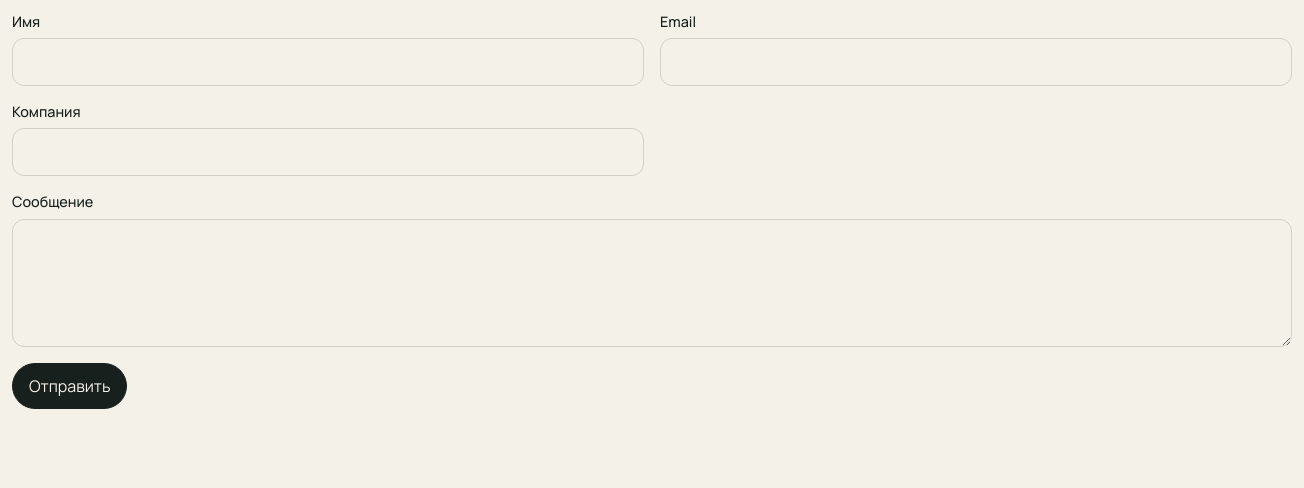
Test: Форма обращения › не отправляет пустую компанию как пустую строку
The width and height of the screenshot is (1304, 488).
Step 1. Type "Michael Ershov" into the field labelled "Имя" → (328, 62), box x1=12 y1=38 x2=644 y2=86
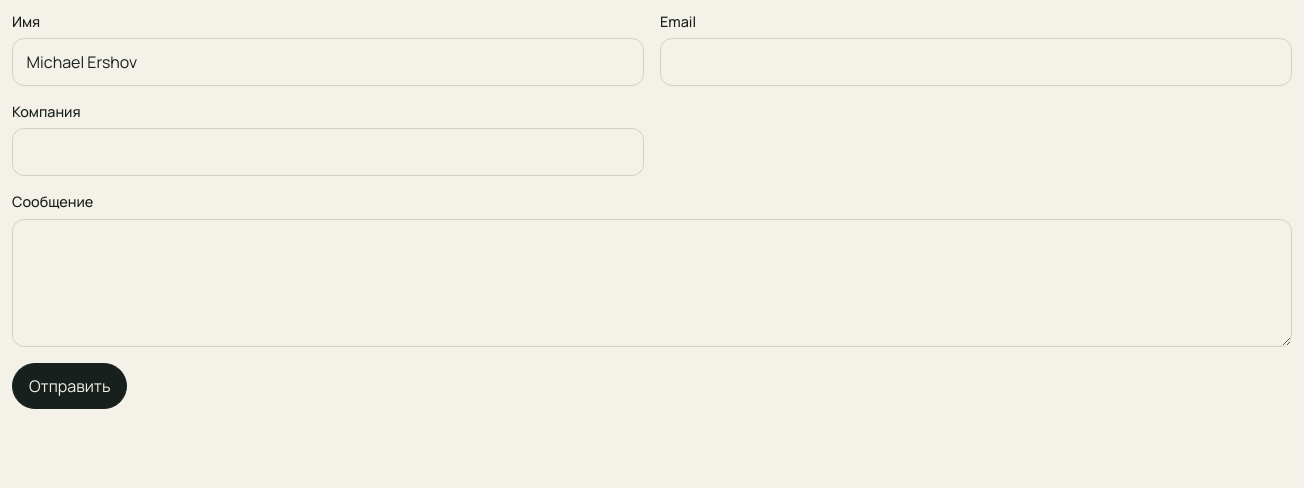
Step 2. Type "michael@example.com" into the field labelled "Email" → (976, 62), box x1=660 y1=38 x2=1292 y2=86
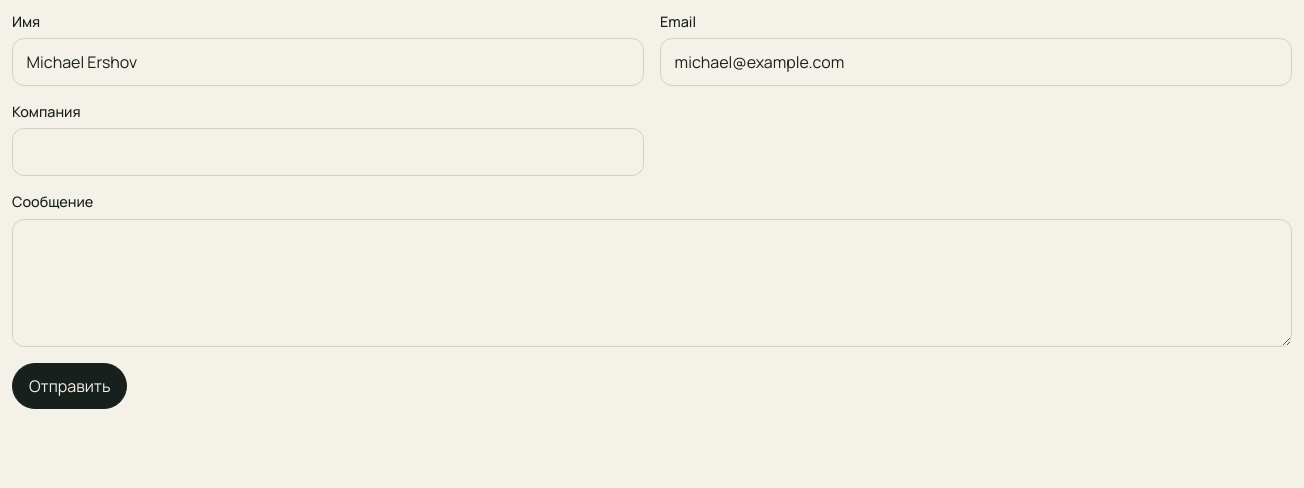
Step 3. Type "Предлагаю обсудить сотрудничество." into the text box labelled "Сообщение" → (652, 283), box x1=12 y1=219 x2=1292 y2=347
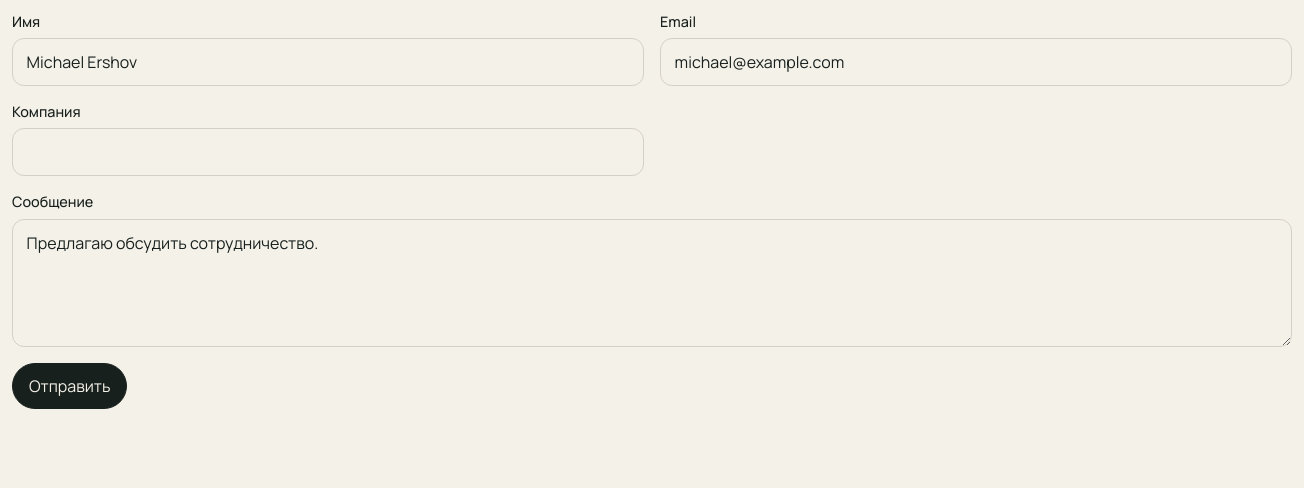
Step 4. Submit the form "Отправить"
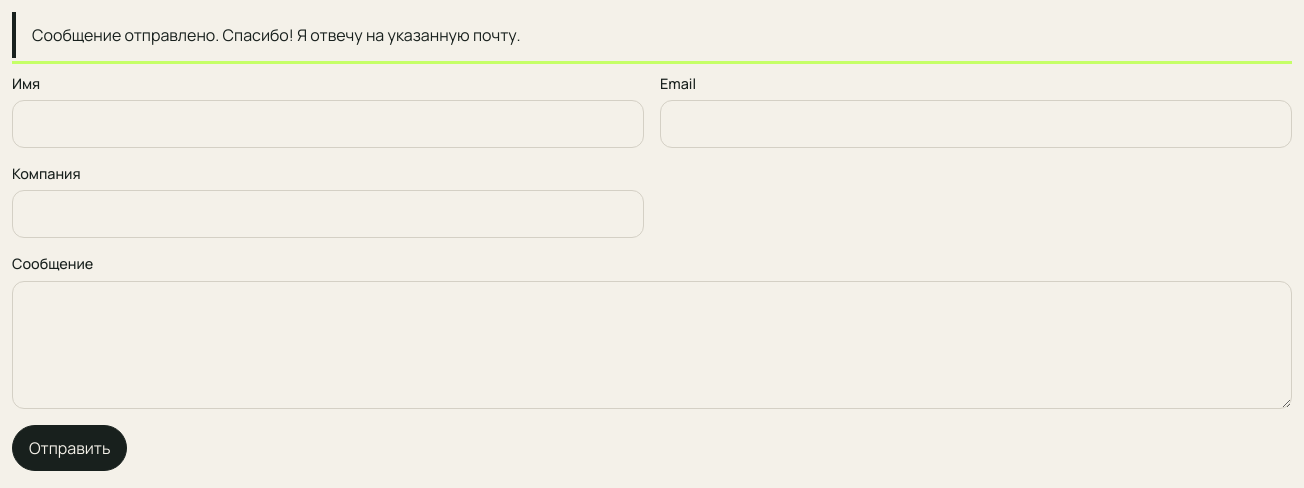
Expected: the message "Сообщение отправлено. Спасибо! Я отвечу на указанную почту." is shown, x1=12 y1=12 x2=1292 y2=58
